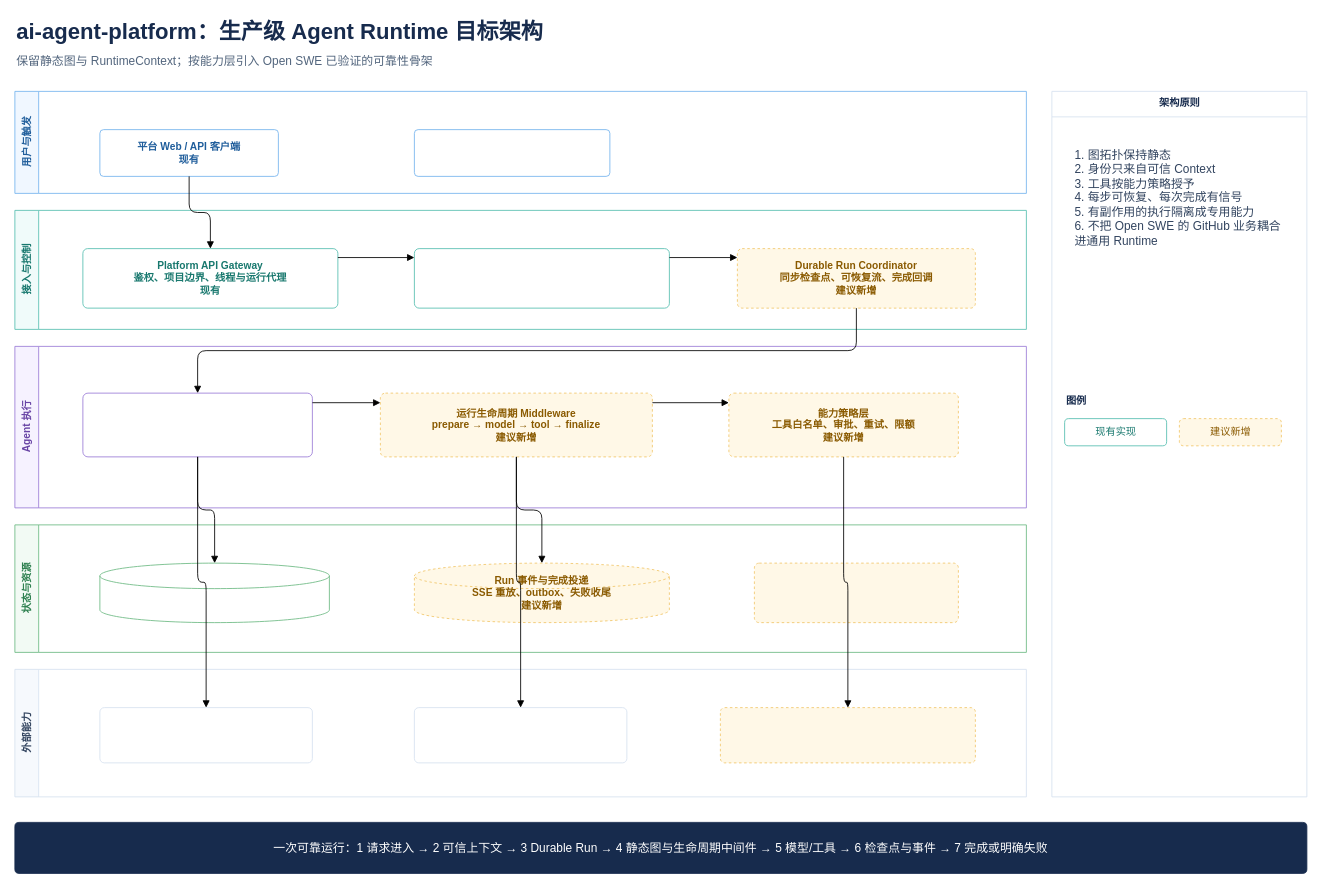
Some shapes in this 1322 by 888 pixel diagram are drawn without their labels. Here are the shapes that lost their labels. From the top down, the centre of each, then its label:
point (512, 152): 事件入口 HTTP / SSE / 定时任务
point (541, 278): 运行请求契约 RuntimeContext + RuntimeOptions 现有
point (197, 424): 静态 Agent Graph create_agent / create_deep_agent 现有
point (214, 592): LangGraph Thread / Checkpoint 对话状态与恢复点 现有
point (856, 592): 任务队列 / Worker 延迟任务、重试、后台执行 建议新增
point (205, 735): 模型供应商 超时、Fallback、限额
point (520, 735): MCP / 知识服务 按项目和权限绑定
point (847, 735): 专用执行能力 Sandbox、仓库、PR 等仅按需接入 建议新增
